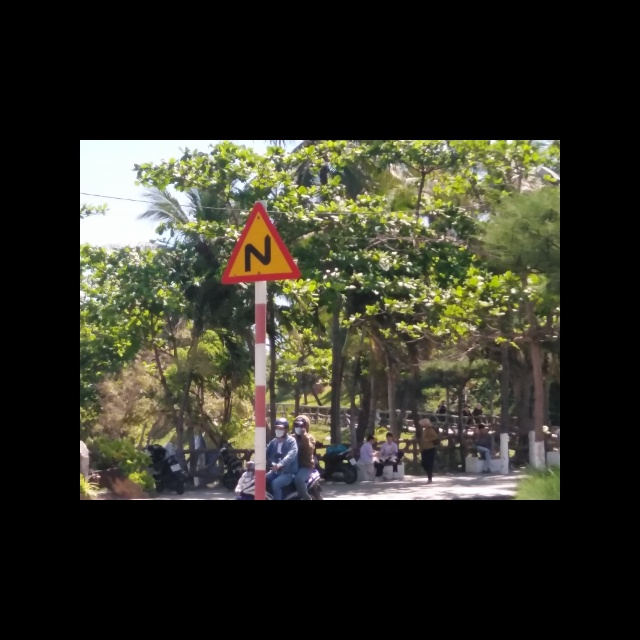Ngoặt nguy hiểm liên tiếp bên phải: (221, 200, 303, 285)
